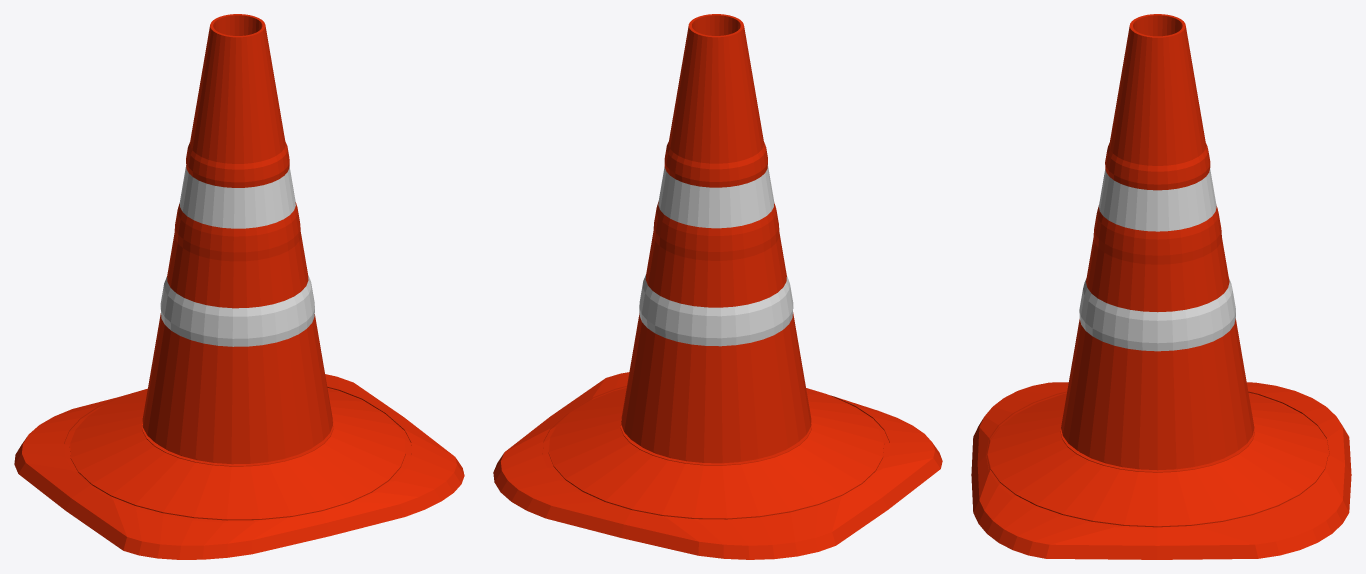
3 renders of one model, left to right at view 1: azimuth 30°, elevation 25°; view 2: azimuth 150°, elevation 25°; view 3: azimuth 270°, elevation 25°, orthographic.
Visible parts, largest first — view 1: Circle.003; view 2: Circle.003; view 3: Circle.003.
Part boxes in pixels (box(x1,y1,x2,y2)): Circle.003: box(14, 14, 464, 559); Circle.003: box(493, 14, 942, 559); Circle.003: box(971, 14, 1351, 559).
Bounding box in the file's own units: 2.43 × 2.99 × 2.29.
